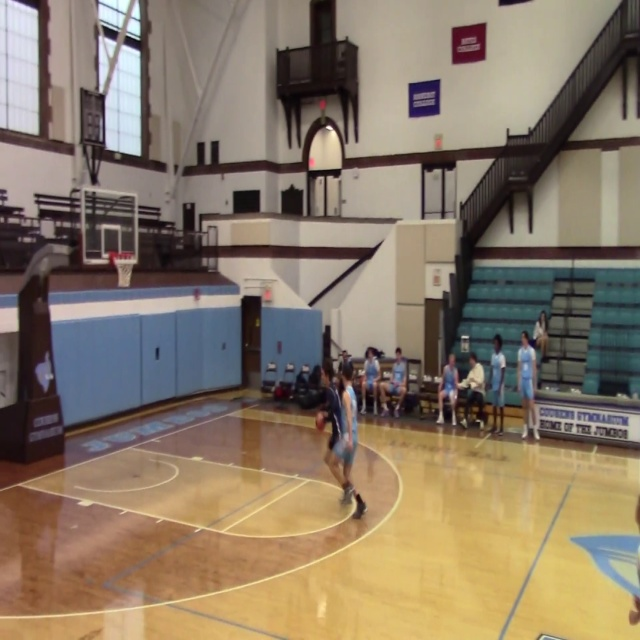Basketball: (315, 413, 325, 430)
